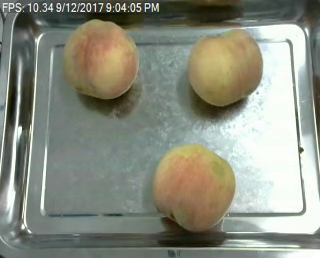Peach: (153, 144, 235, 231), (187, 28, 264, 105), (64, 18, 139, 97)
